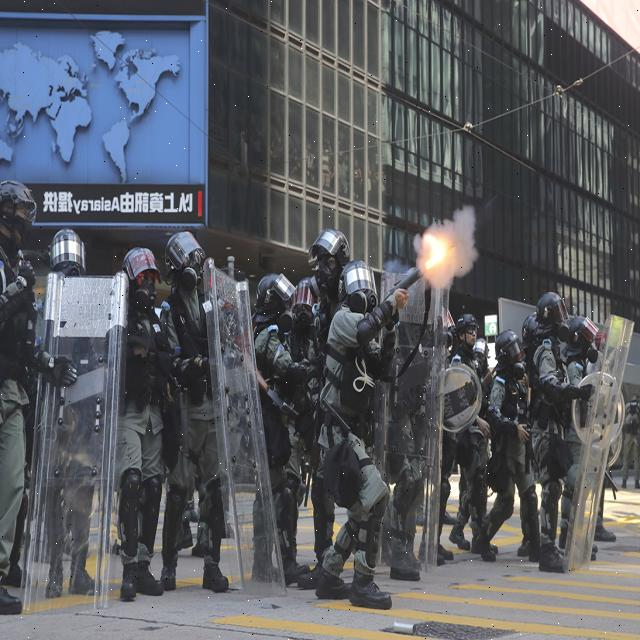police: (89, 206, 220, 621), (310, 220, 444, 612), (235, 218, 350, 611), (0, 166, 65, 604), (566, 272, 640, 581), (416, 290, 489, 576), (483, 281, 543, 570), (534, 275, 584, 584)
